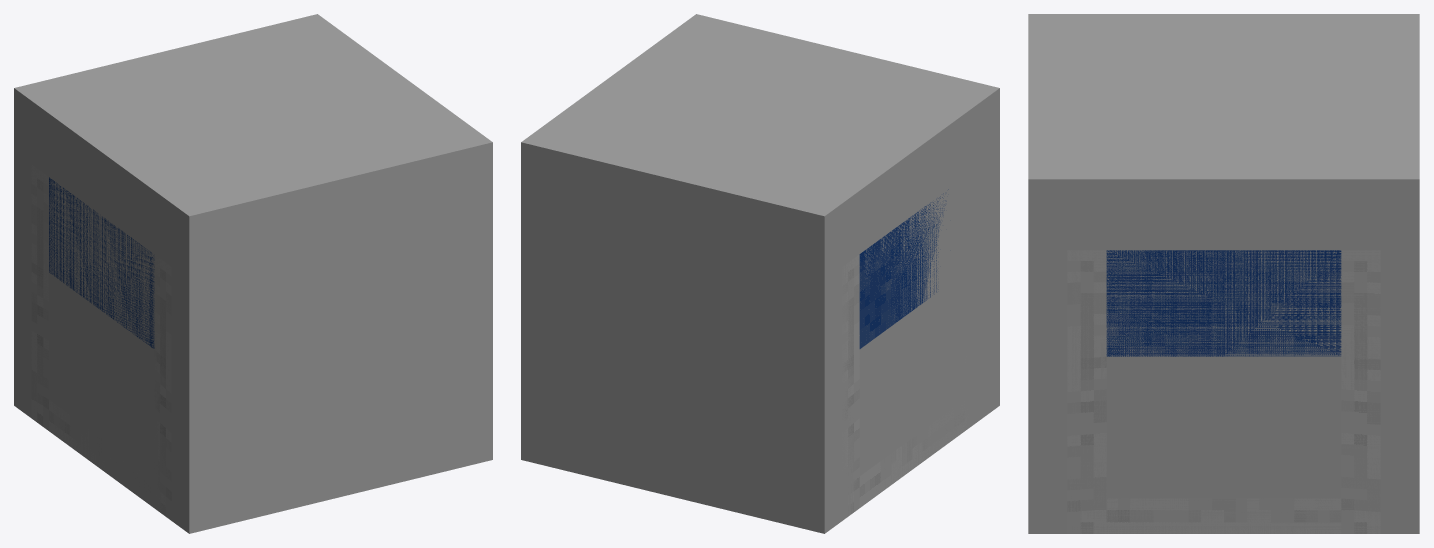
Rendered from FuelGenerator200V.obj.
The picture shows the model from 3 angles, left to right: view 1: azimuth 30°, elevation 25°; view 2: azimuth 150°, elevation 25°; view 3: azimuth 270°, elevation 25°; orthographic projection. The views are drawn at different scales.
Visible parts, largest first — view 1: Minecraft_Block_Cube, main; view 2: Minecraft_Block_Cube, main; view 3: Minecraft_Block_Cube, main.
Boxes of the visible parts, x1,y1,x2,y2 form: Minecraft_Block_Cube: [14, 14, 492, 533]; main: [31, 165, 171, 520]; Minecraft_Block_Cube: [521, 14, 999, 533]; main: [842, 189, 965, 515]; Minecraft_Block_Cube: [1028, 14, 1419, 533]; main: [1067, 250, 1380, 533].
Size of the model in its own units: 1 by 1 by 1.
Materials: 2 (1 with a texture image).
